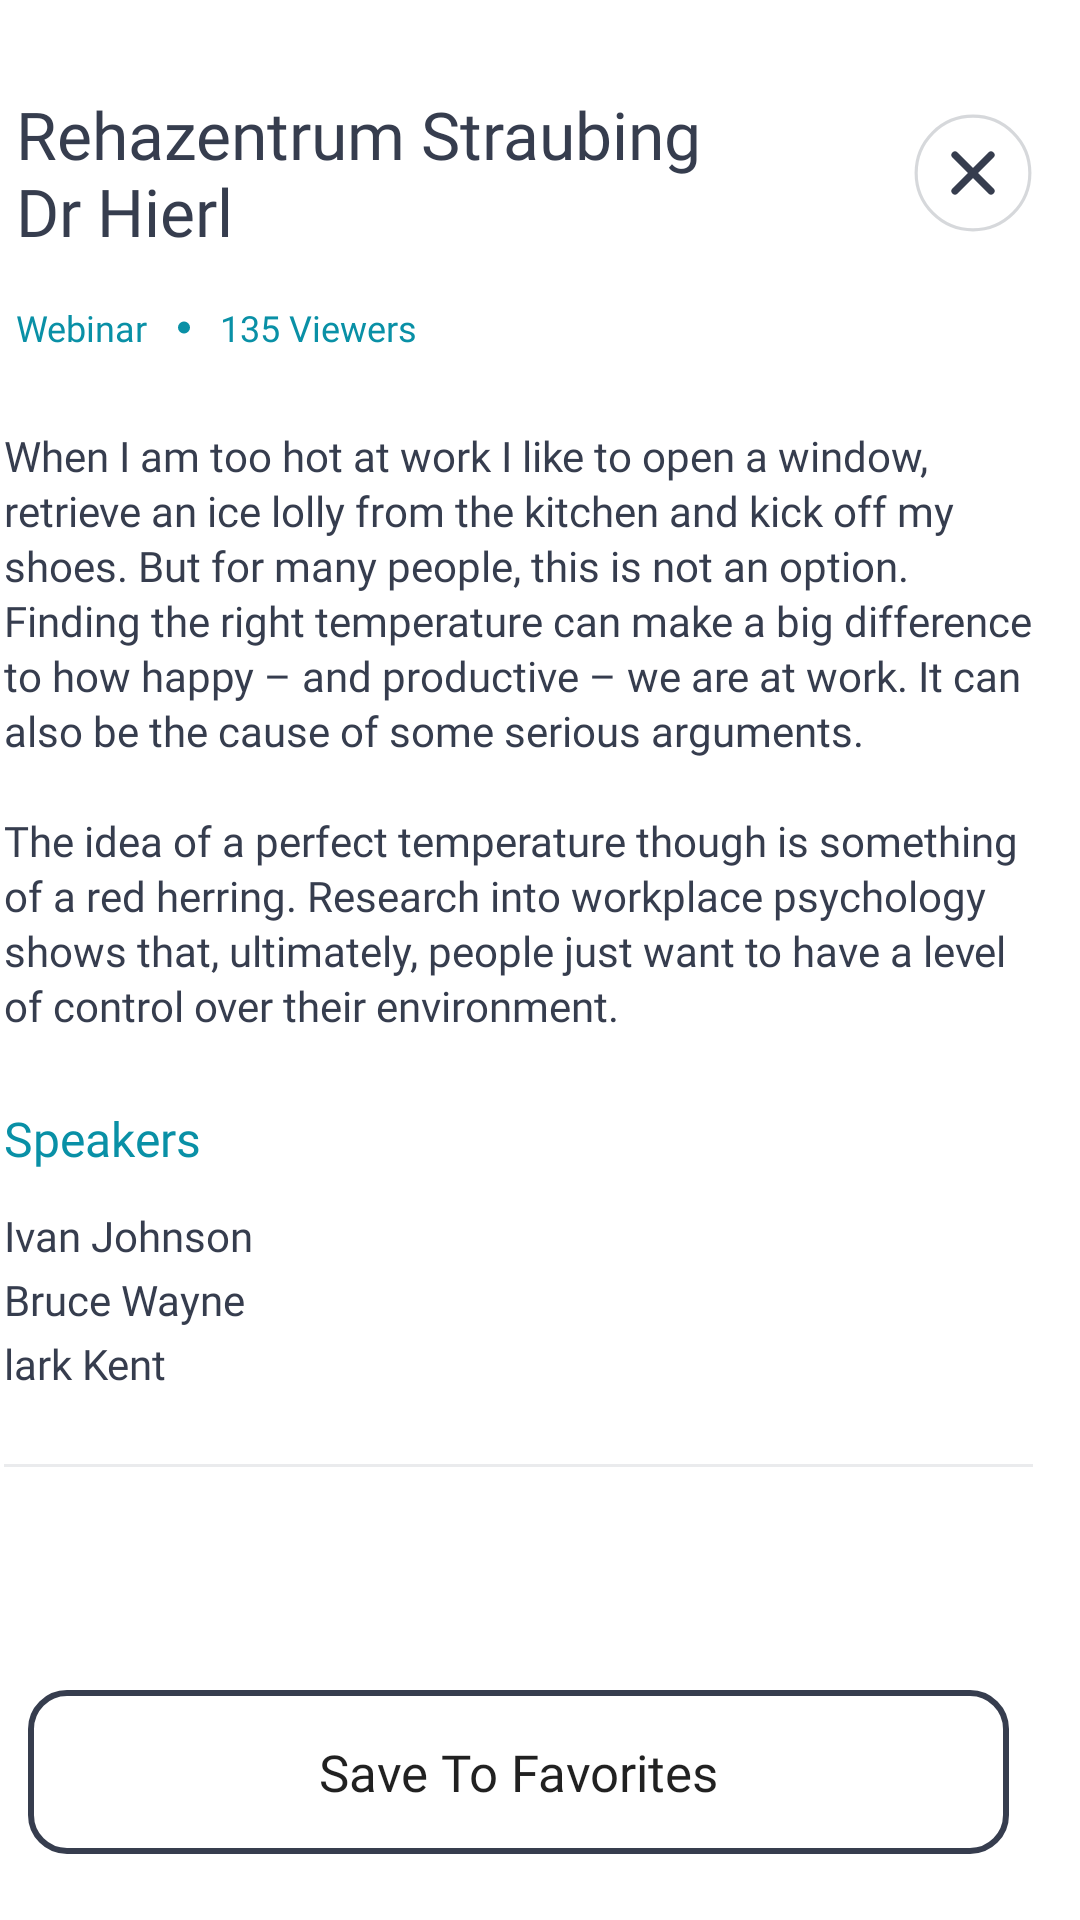

Icons on this 1080×1920 Android screen, each with its box as (x1, y1, x2, y2):
cross: (915, 115, 1031, 231)
